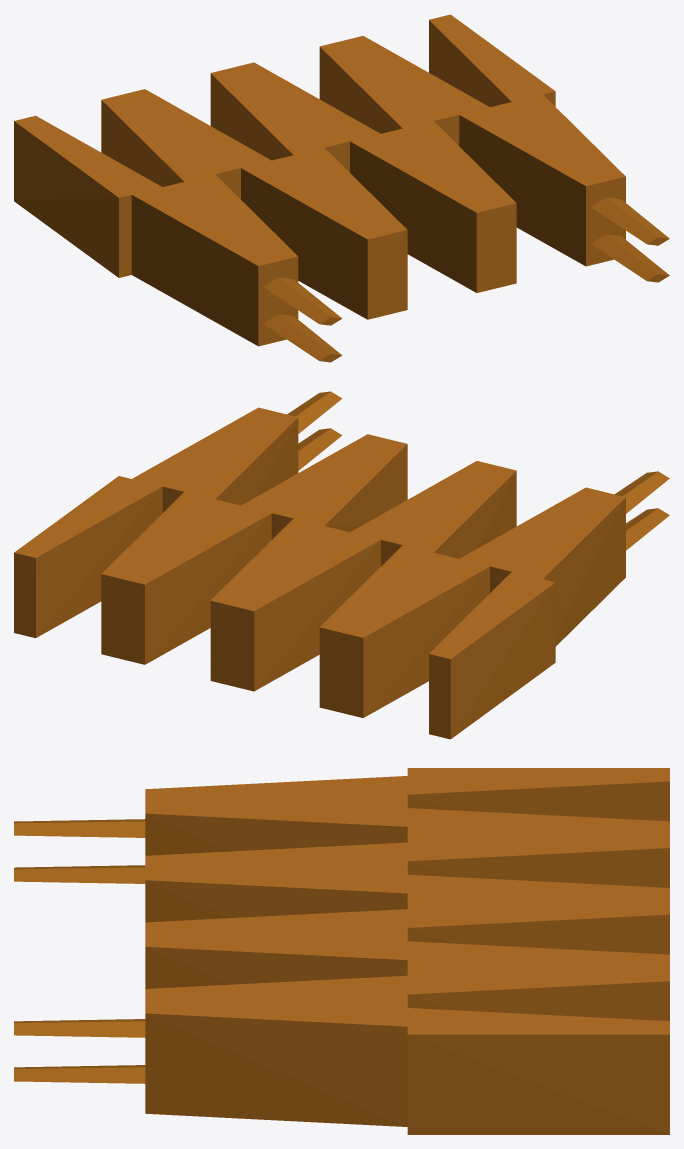
The model's file is scrap-iron-butter.glb.
3 renders of one model, top to bottom at view 1: azimuth 30°, elevation 25°; view 2: azimuth 150°, elevation 25°; view 3: azimuth 270°, elevation 25°, orthographic. The views are drawn at different scales.
Parts seen in each view (by area): view 1: scrap-iron-butter; view 2: scrap-iron-butter; view 3: scrap-iron-butter.
Part boxes in pixels (left/top/right/bottom): scrap-iron-butter: left=14, top=14, right=669, bottom=362; scrap-iron-butter: left=14, top=391, right=669, bottom=739; scrap-iron-butter: left=14, top=768, right=669, bottom=1134.
Size of the model in its own units: 0.74 by 0.13 by 0.77.
